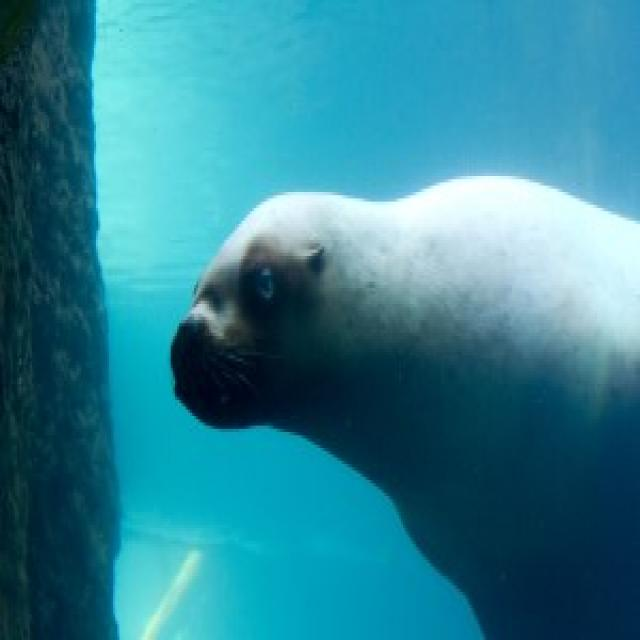Seal: (153, 147, 640, 640)
